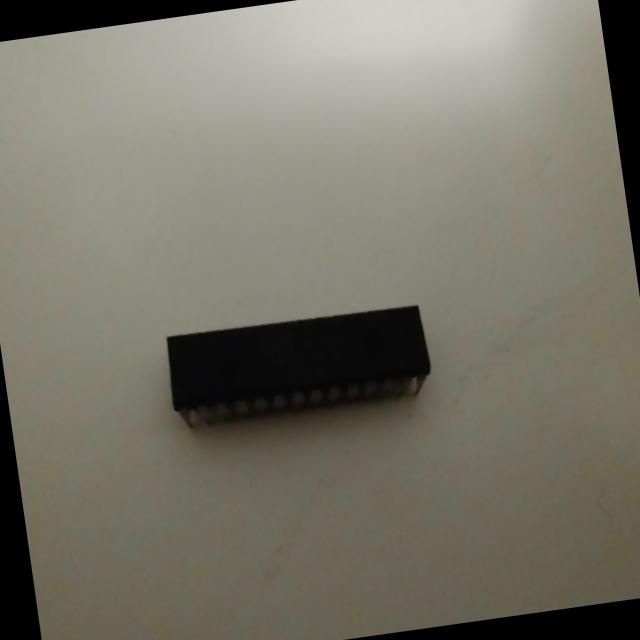atmega: (160, 295, 438, 437)
